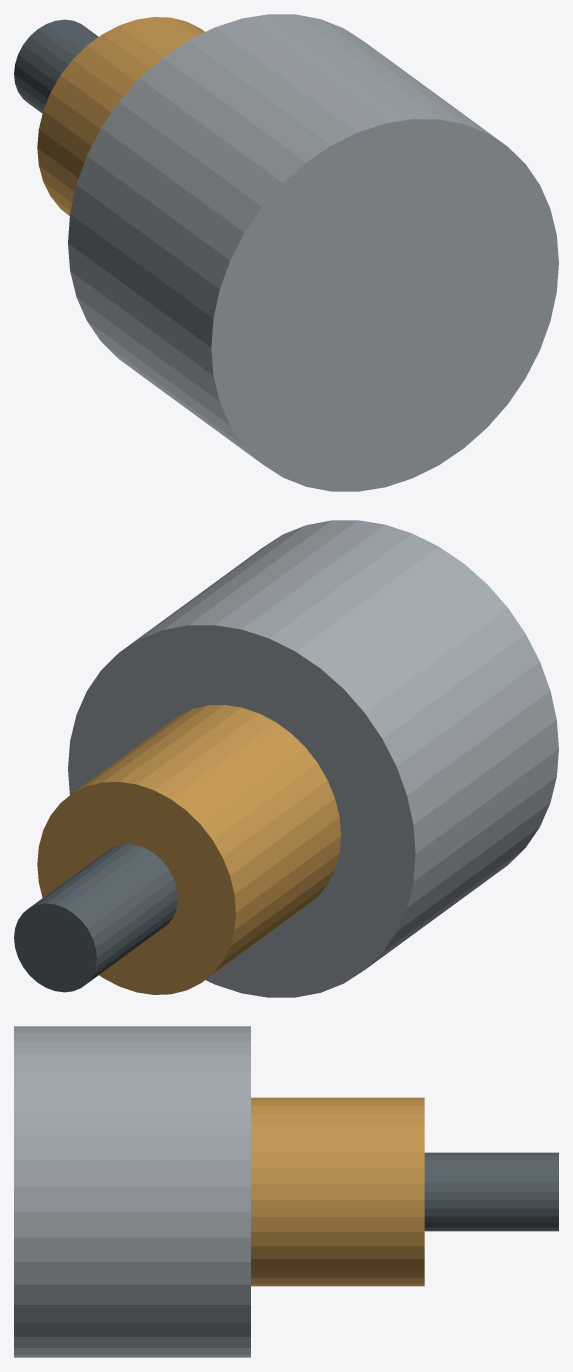
File: 12_focus_nozzle.glb
The picture shows the model from 3 angles, top to bottom: view 1: azimuth 30°, elevation 25°; view 2: azimuth 150°, elevation 25°; view 3: azimuth 270°, elevation 25°; orthographic projection. The views are drawn at different scales.
Parts seen in each view (by area): view 1: 12_focus_nozzle_0, 12_focus_nozzle_1, 12_focus_nozzle_2; view 2: 12_focus_nozzle_0, 12_focus_nozzle_1, 12_focus_nozzle_2; view 3: 12_focus_nozzle_0, 12_focus_nozzle_1, 12_focus_nozzle_2.
Boxes of the visible parts, bbox=[...] form: 12_focus_nozzle_0: bbox=[68, 14, 558, 491]; 12_focus_nozzle_1: bbox=[37, 17, 204, 215]; 12_focus_nozzle_2: bbox=[14, 19, 98, 113]; 12_focus_nozzle_0: bbox=[68, 520, 558, 997]; 12_focus_nozzle_1: bbox=[37, 705, 340, 994]; 12_focus_nozzle_2: bbox=[14, 844, 177, 992]; 12_focus_nozzle_0: bbox=[14, 1026, 250, 1357]; 12_focus_nozzle_1: bbox=[251, 1097, 424, 1286]; 12_focus_nozzle_2: bbox=[424, 1152, 558, 1231].
Size of the model in its own units: 42 by 42 by 69.
